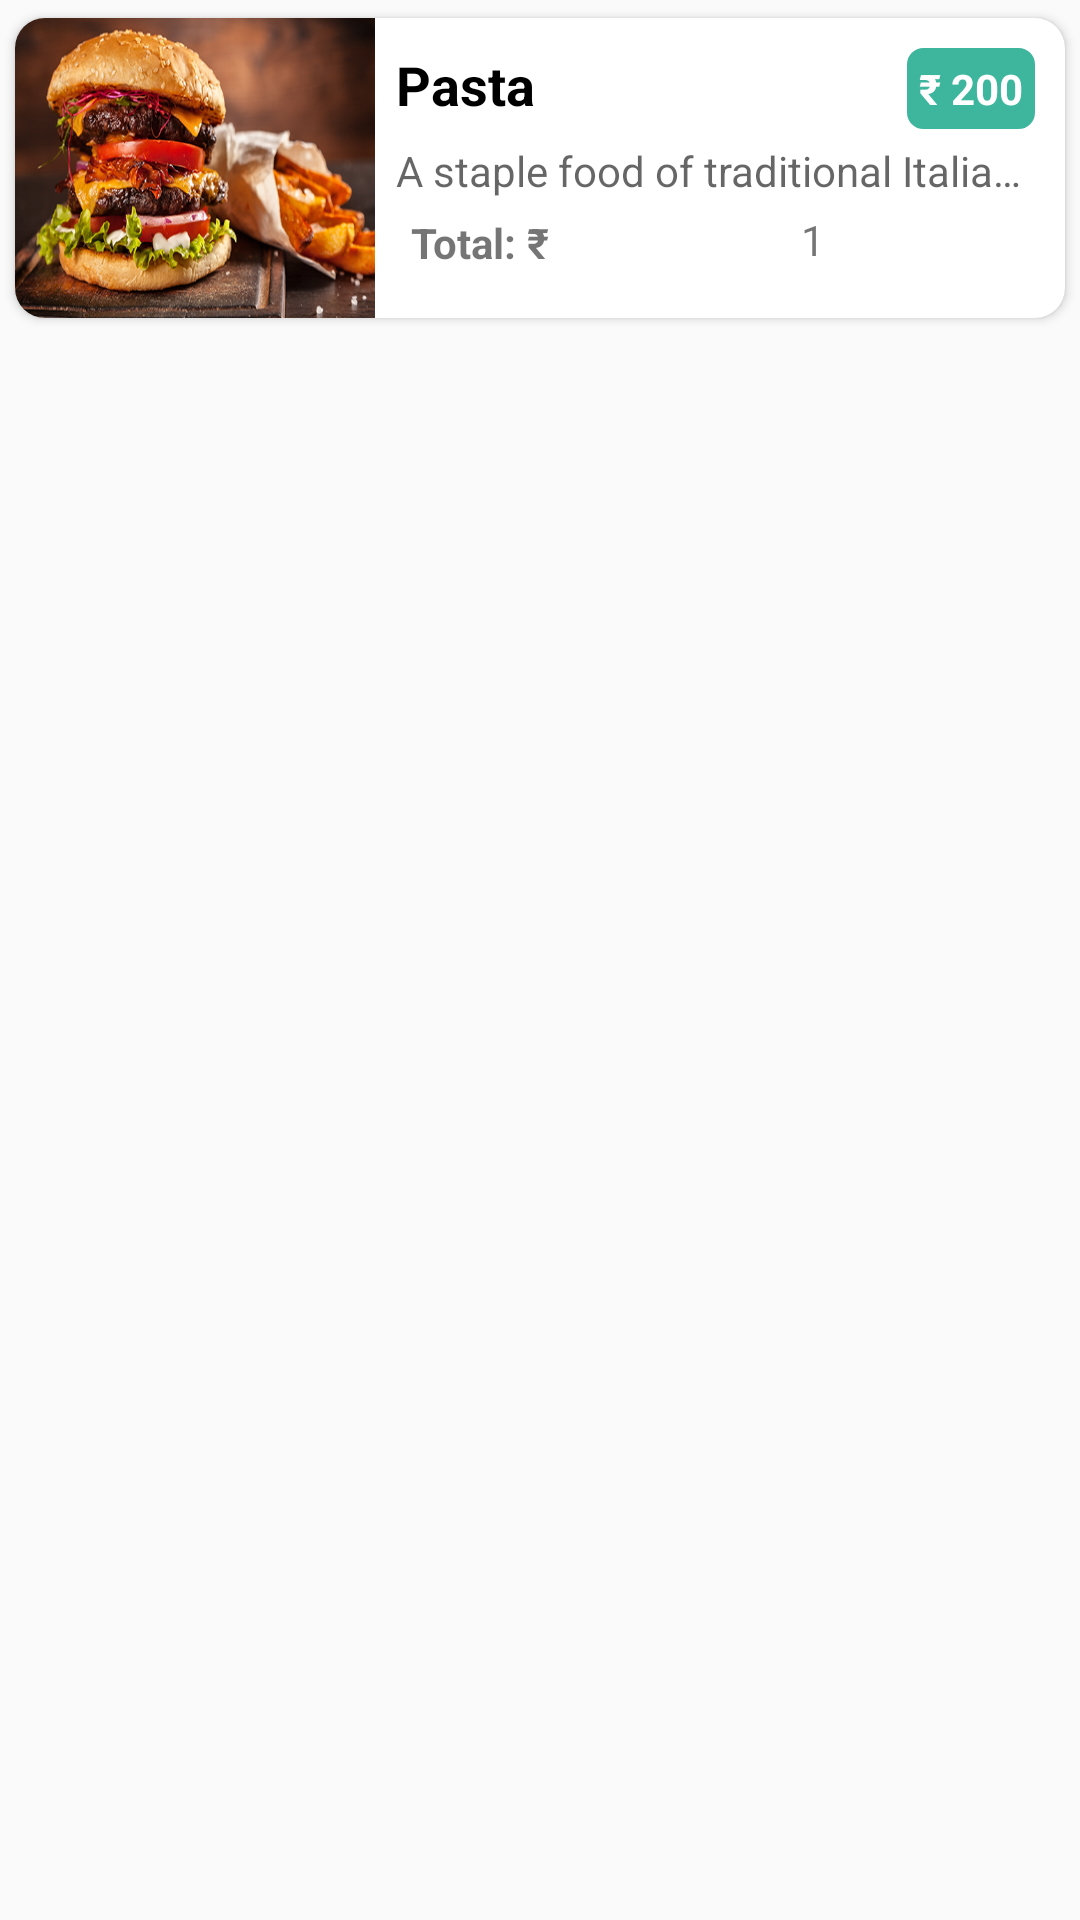

Icon click points for this 1080px x 1920px phone screenshot, format (x=x, y=y):
burger: (x=195, y=168)
